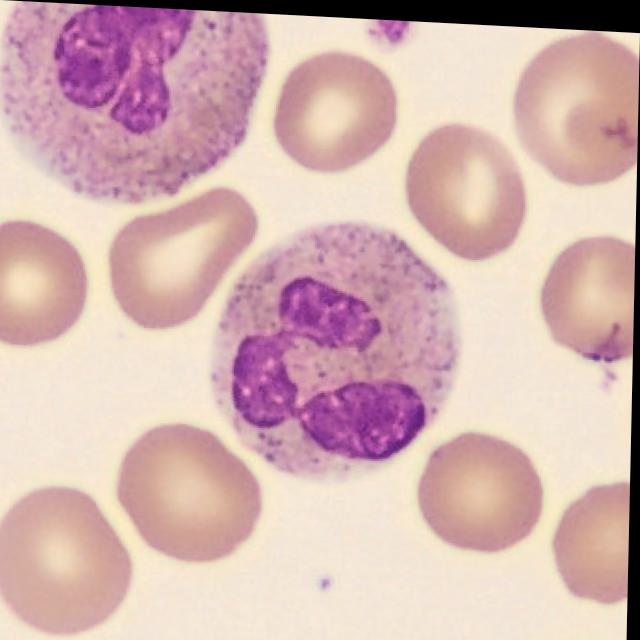Neutrofilo segmentado: (212, 219, 460, 479), (5, 1, 266, 201)
